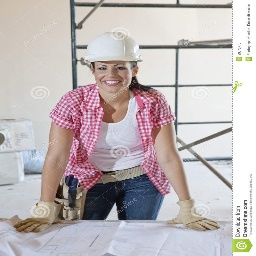helmet: (79, 29, 148, 65)
no-vest: (50, 88, 181, 174)
person: (25, 27, 213, 238)
